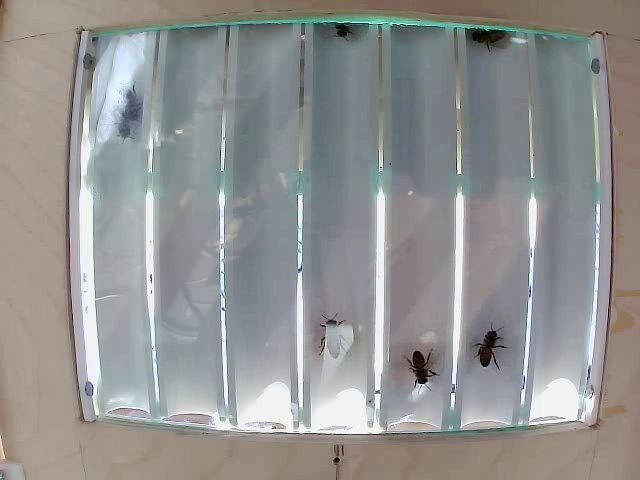bee: (476, 325, 504, 371), (407, 346, 436, 386), (311, 309, 343, 345)
